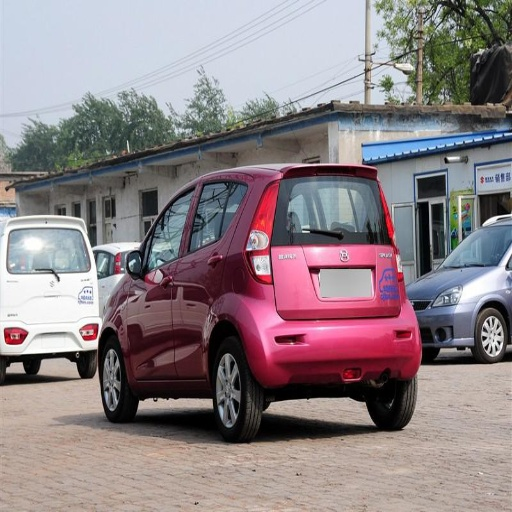back_bumper: (240, 284, 421, 386)
back_glass: (274, 178, 376, 240)
back_left_door: (175, 191, 224, 374)
trunk: (253, 236, 399, 320), (3, 277, 46, 318)
